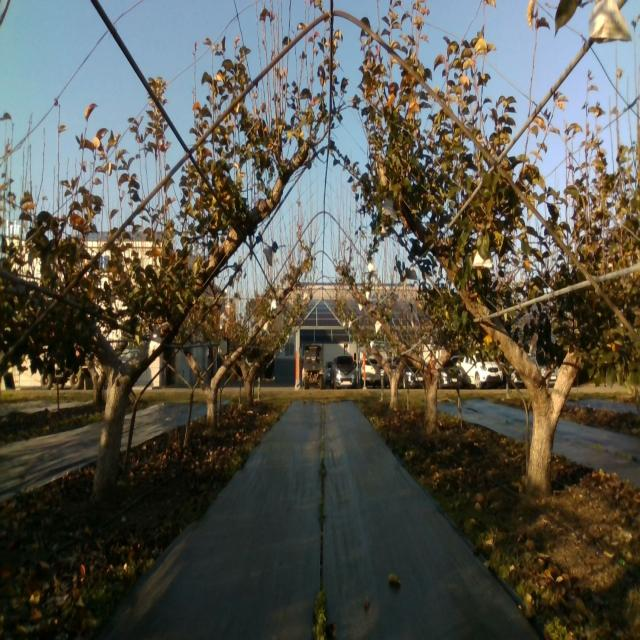pearbags: (589, 0, 632, 44), (472, 248, 492, 268), (382, 197, 398, 221), (148, 331, 161, 357)
